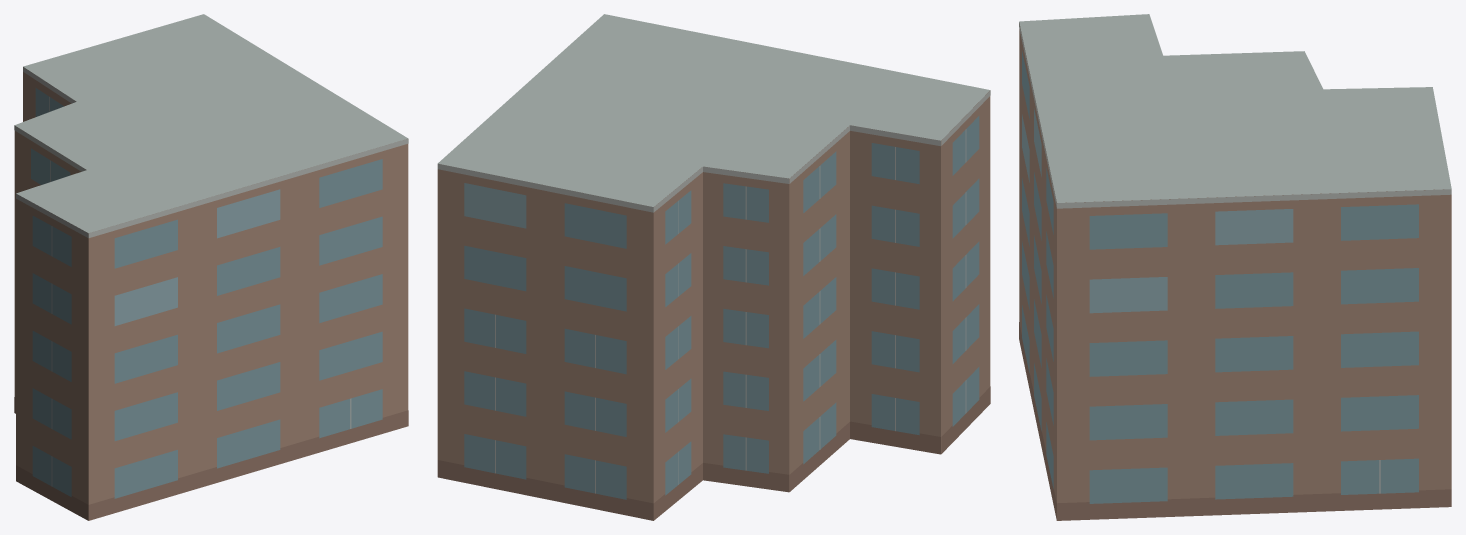
Rendered from survey-upis-32909733.glb.
The picture shows the model from 3 angles, left to right: view 1: azimuth 30°, elevation 25°; view 2: azimuth 150°, elevation 25°; view 3: azimuth 270°, elevation 25°; orthographic projection. The views are drawn at different scales.
Parts seen in each view (by area): view 1: survey-upis-32909733.tmp; view 2: survey-upis-32909733.tmp; view 3: survey-upis-32909733.tmp.
Boxes of the visible parts, x1=… form: survey-upis-32909733.tmp: x1=14, y1=14, x2=408, y2=520; survey-upis-32909733.tmp: x1=437, y1=14, x2=990, y2=520; survey-upis-32909733.tmp: x1=1019, y1=14, x2=1451, y2=520.
Size of the model in its own units: 17.62 by 13.8 by 17.04.
